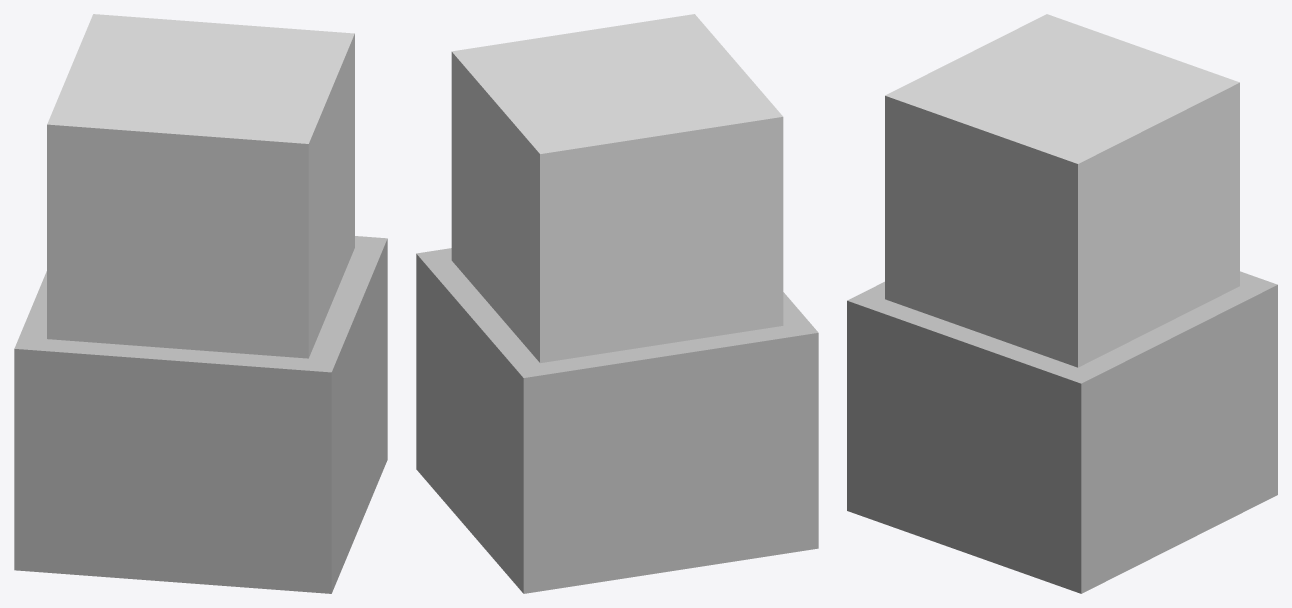
Rendered from Martelo.gltf.
3 renders of one model, left to right at view 1: azimuth 30°, elevation 25°; view 2: azimuth 150°, elevation 25°; view 3: azimuth 270°, elevation 25°, orthographic. The views are drawn at different scales.
Visible parts, largest first — view 1: Martelo; view 2: Martelo; view 3: Martelo.
Boxes of the visible parts, <box> form: Martelo: <box>14,14,387,593</box>; Martelo: <box>416,14,818,593</box>; Martelo: <box>847,14,1277,593</box>.
Bounding box in the file's own units: 1.57 × 1.66 × 1.57.
1 material, 1 textured.
